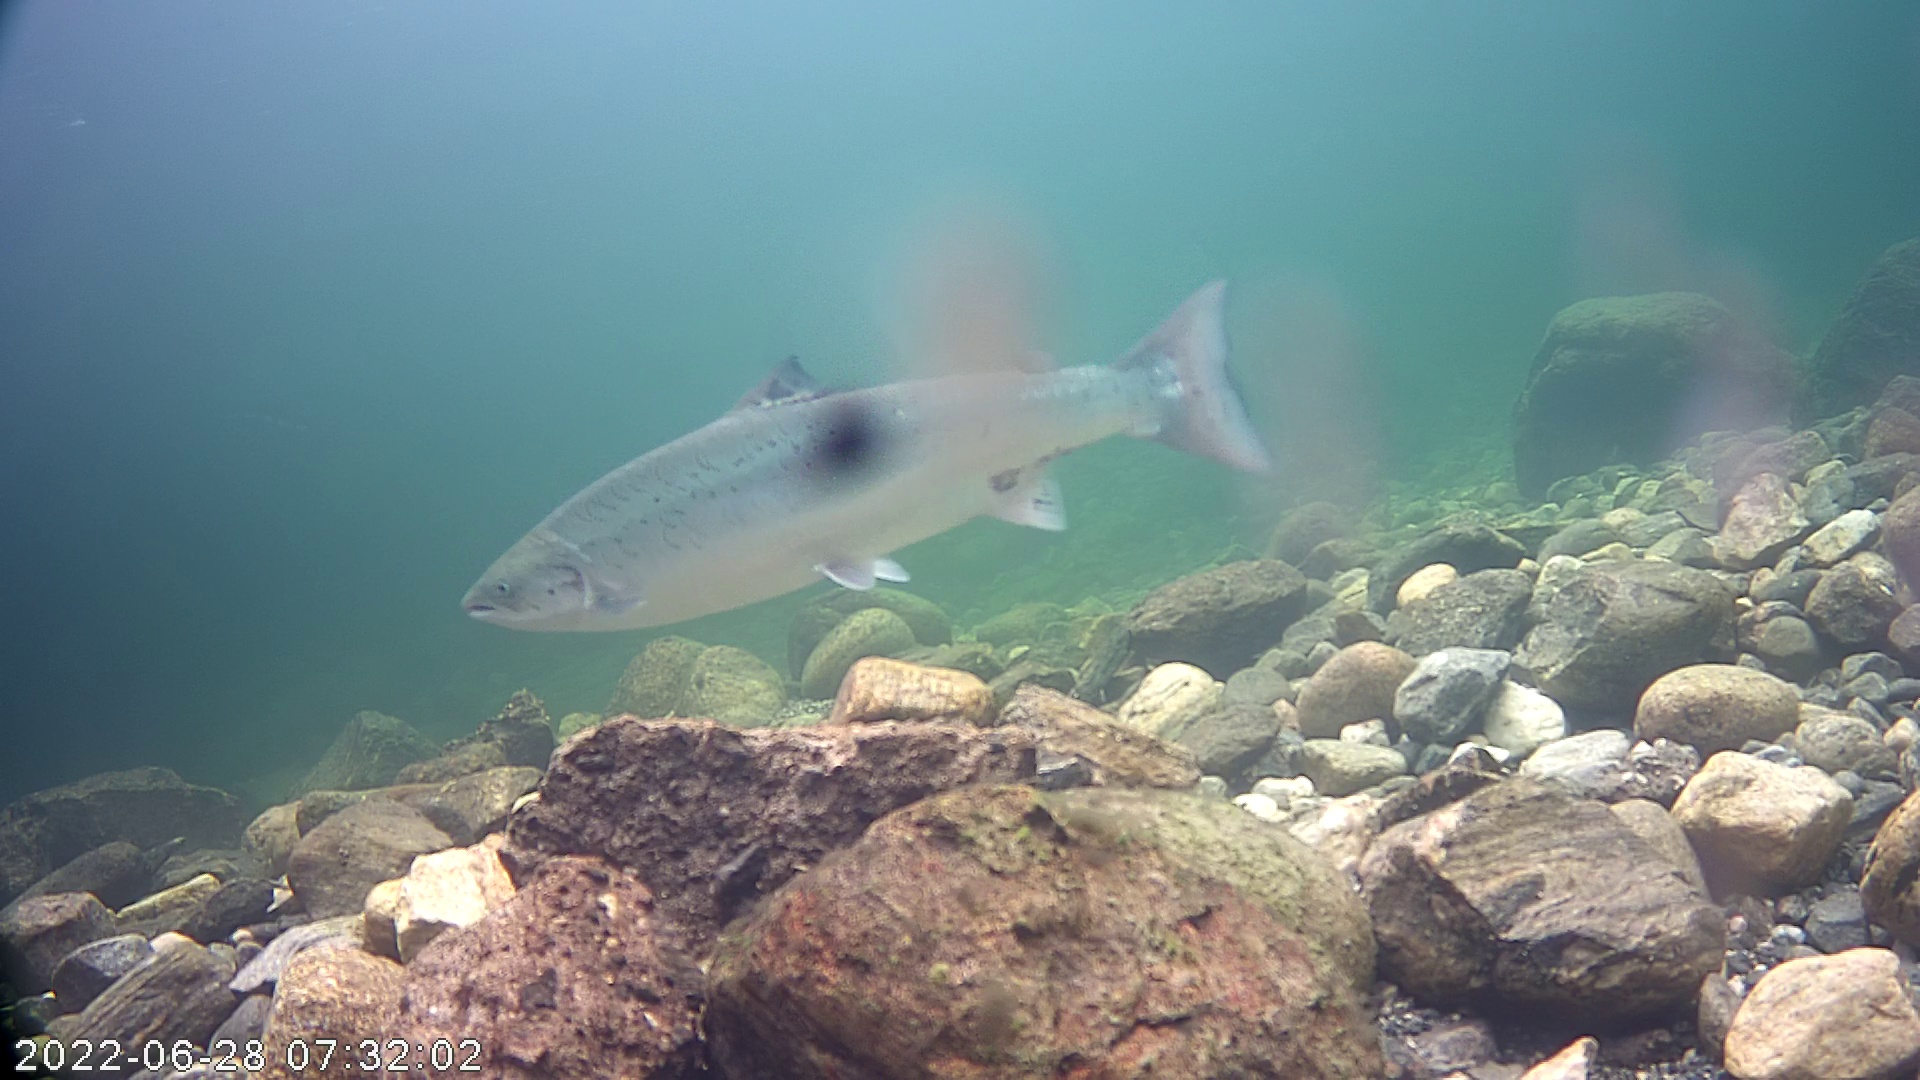salmon: (455, 216, 1296, 654)
